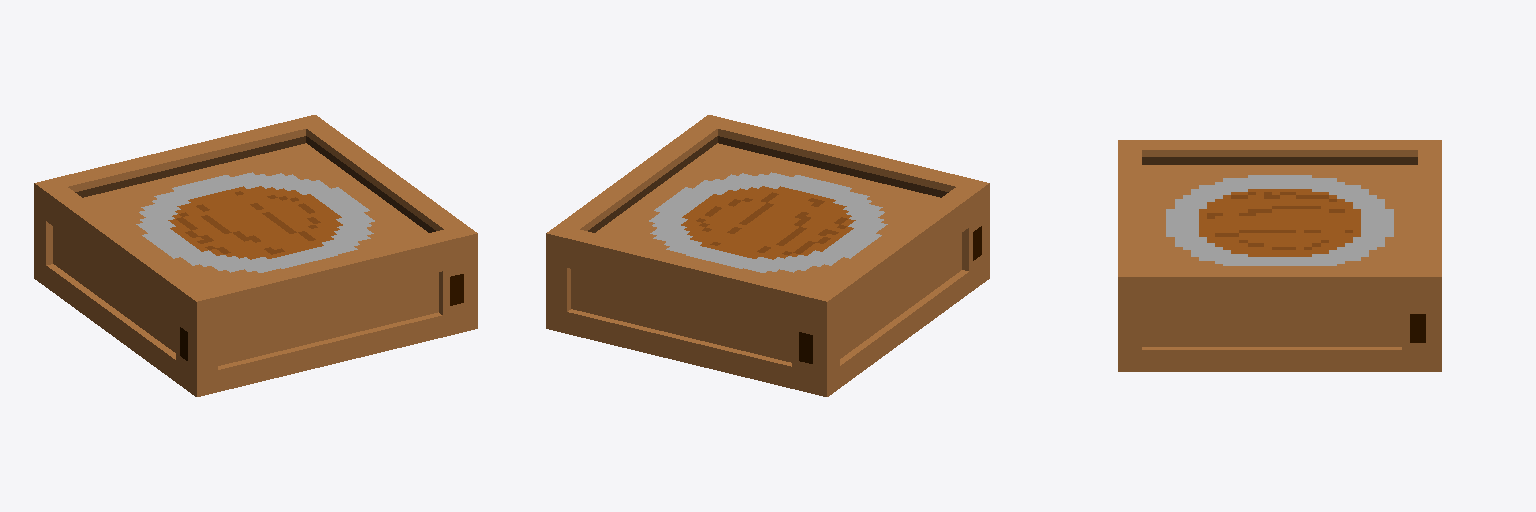
The picture shows the model from 3 angles: view 1: azimuth 30°, elevation 25°; view 2: azimuth 150°, elevation 25°; view 3: azimuth 270°, elevation 25°; orthographic projection.
Visible parts, largest first — view 1: object 1; view 2: object 1; view 3: object 1.
Boxes of the visible parts, box(x1,y1,x2,y2) form: object 1: box(34, 115, 477, 396); object 1: box(546, 115, 989, 396); object 1: box(1118, 140, 1441, 371).
Size of the model in its own units: 4 by 1.3 by 4.
1 materials, 1 textured.